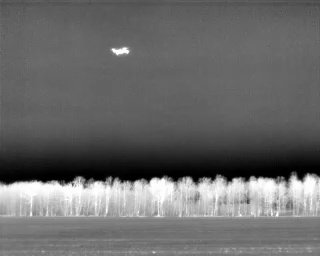DRONE: (108, 42, 134, 60)
